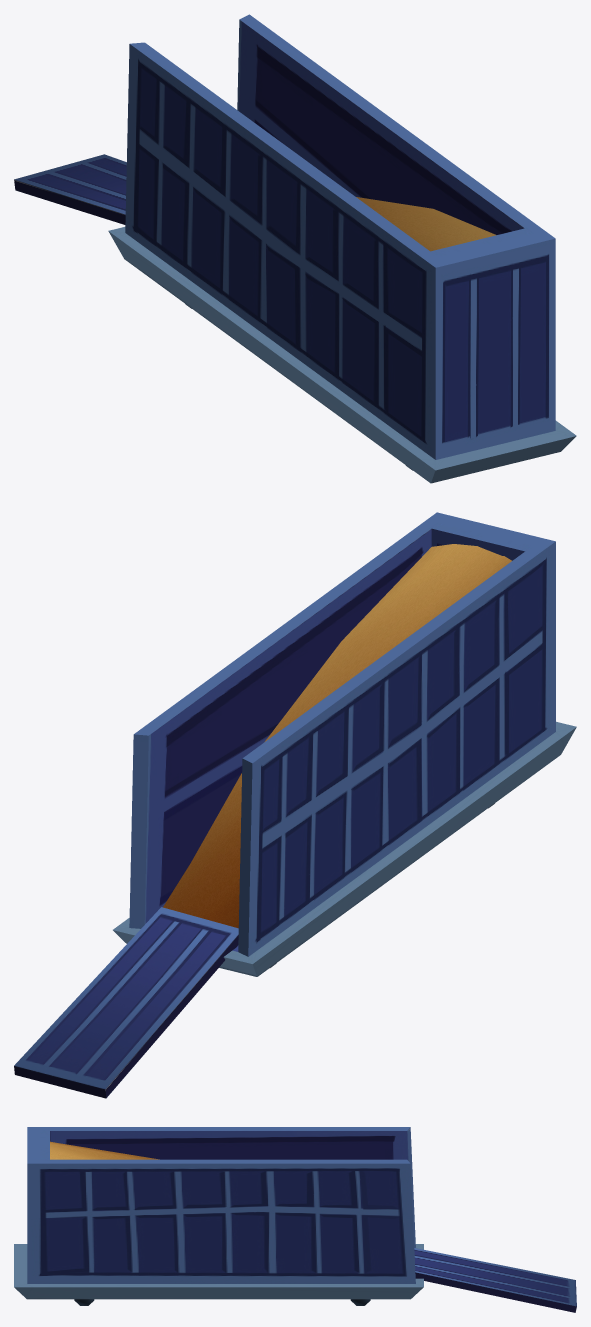
File: TrainSand01.fbx
The picture shows the model from 3 angles, top to bottom: view 1: azimuth 30°, elevation 25°; view 2: azimuth 150°, elevation 25°; view 3: azimuth 270°, elevation 25°; orthographic projection. The views are drawn at different scales.
Visible parts, largest first — view 1: TrainSand01; view 2: TrainSand01; view 3: TrainSand01.
Part boxes in pixels (bbox=[...]): TrainSand01: bbox=[14, 14, 576, 483]; TrainSand01: bbox=[14, 512, 576, 1098]; TrainSand01: bbox=[14, 1127, 576, 1312].
Size of the model in its own units: 477 by 795 by 2627.
Materials: 2 (2 with a texture image).
